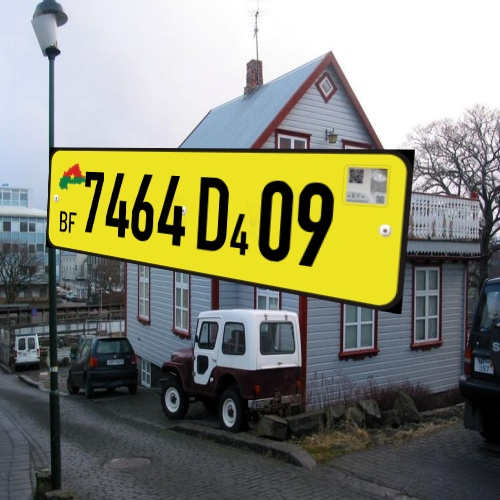plate: (33, 127, 426, 327)
